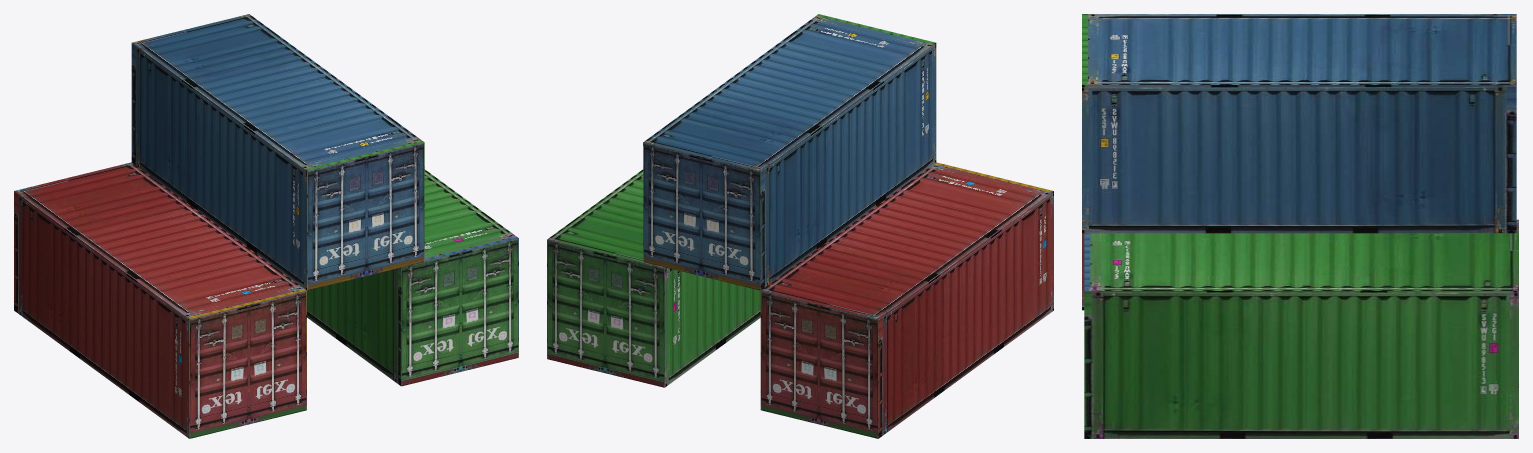
3 renders of one model, left to right at view 1: azimuth 30°, elevation 25°; view 2: azimuth 150°, elevation 25°; view 3: azimuth 270°, elevation 25°, orthographic. The views are drawn at different scales.
Visible parts, largest first — view 1: polySurface38; view 2: polySurface38; view 3: polySurface38.
Boxes of the visible parts, box(x1,y1,x2,y2) form: polySurface38: box(14, 14, 518, 438); polySurface38: box(547, 14, 1053, 438); polySurface38: box(1082, 14, 1518, 438).
Size of the model in its own units: 18.11 by 12.53 by 16.73.
Materials: 1 (1 with a texture image).
